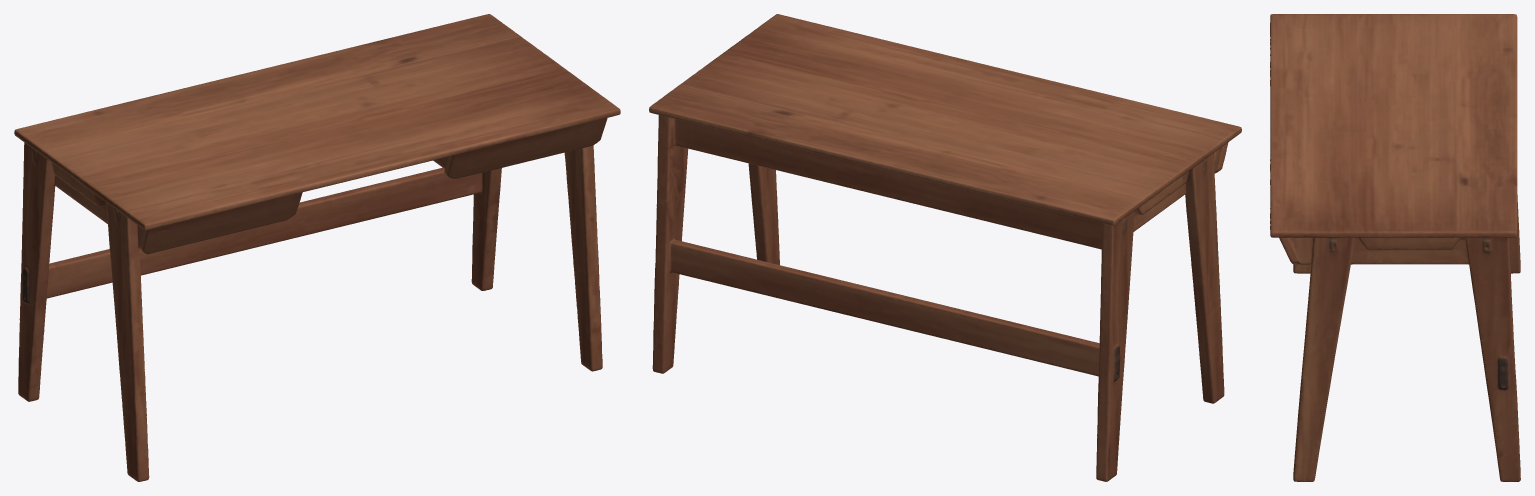
Rendered from Solid Wood Writing Desk with Integrated Drawers [EEc783].glb.
3 renders of one model, left to right at view 1: azimuth 30°, elevation 25°; view 2: azimuth 150°, elevation 25°; view 3: azimuth 270°, elevation 25°, orthographic. The views are drawn at different scales.
Parts seen in each view (by area): view 1: world; view 2: world; view 3: world.
Boxes of the visible parts, x1=… form: world: x1=14, y1=14, x2=620, y2=481; world: x1=649, y1=14, x2=1241, y2=481; world: x1=1270, y1=14, x2=1520, y2=481.
Size of the model in its own units: 1 by 0.5412 by 0.4861.
Materials: 1 (1 with a texture image).
